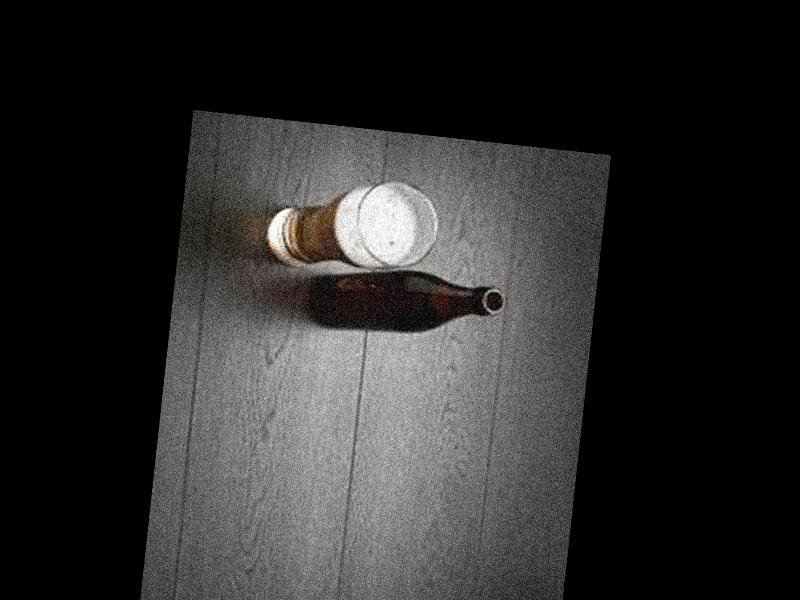Beer: (301, 258, 509, 348)
